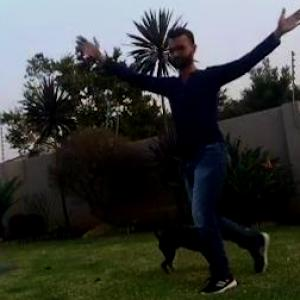takeoff: (134, 11, 299, 260)
